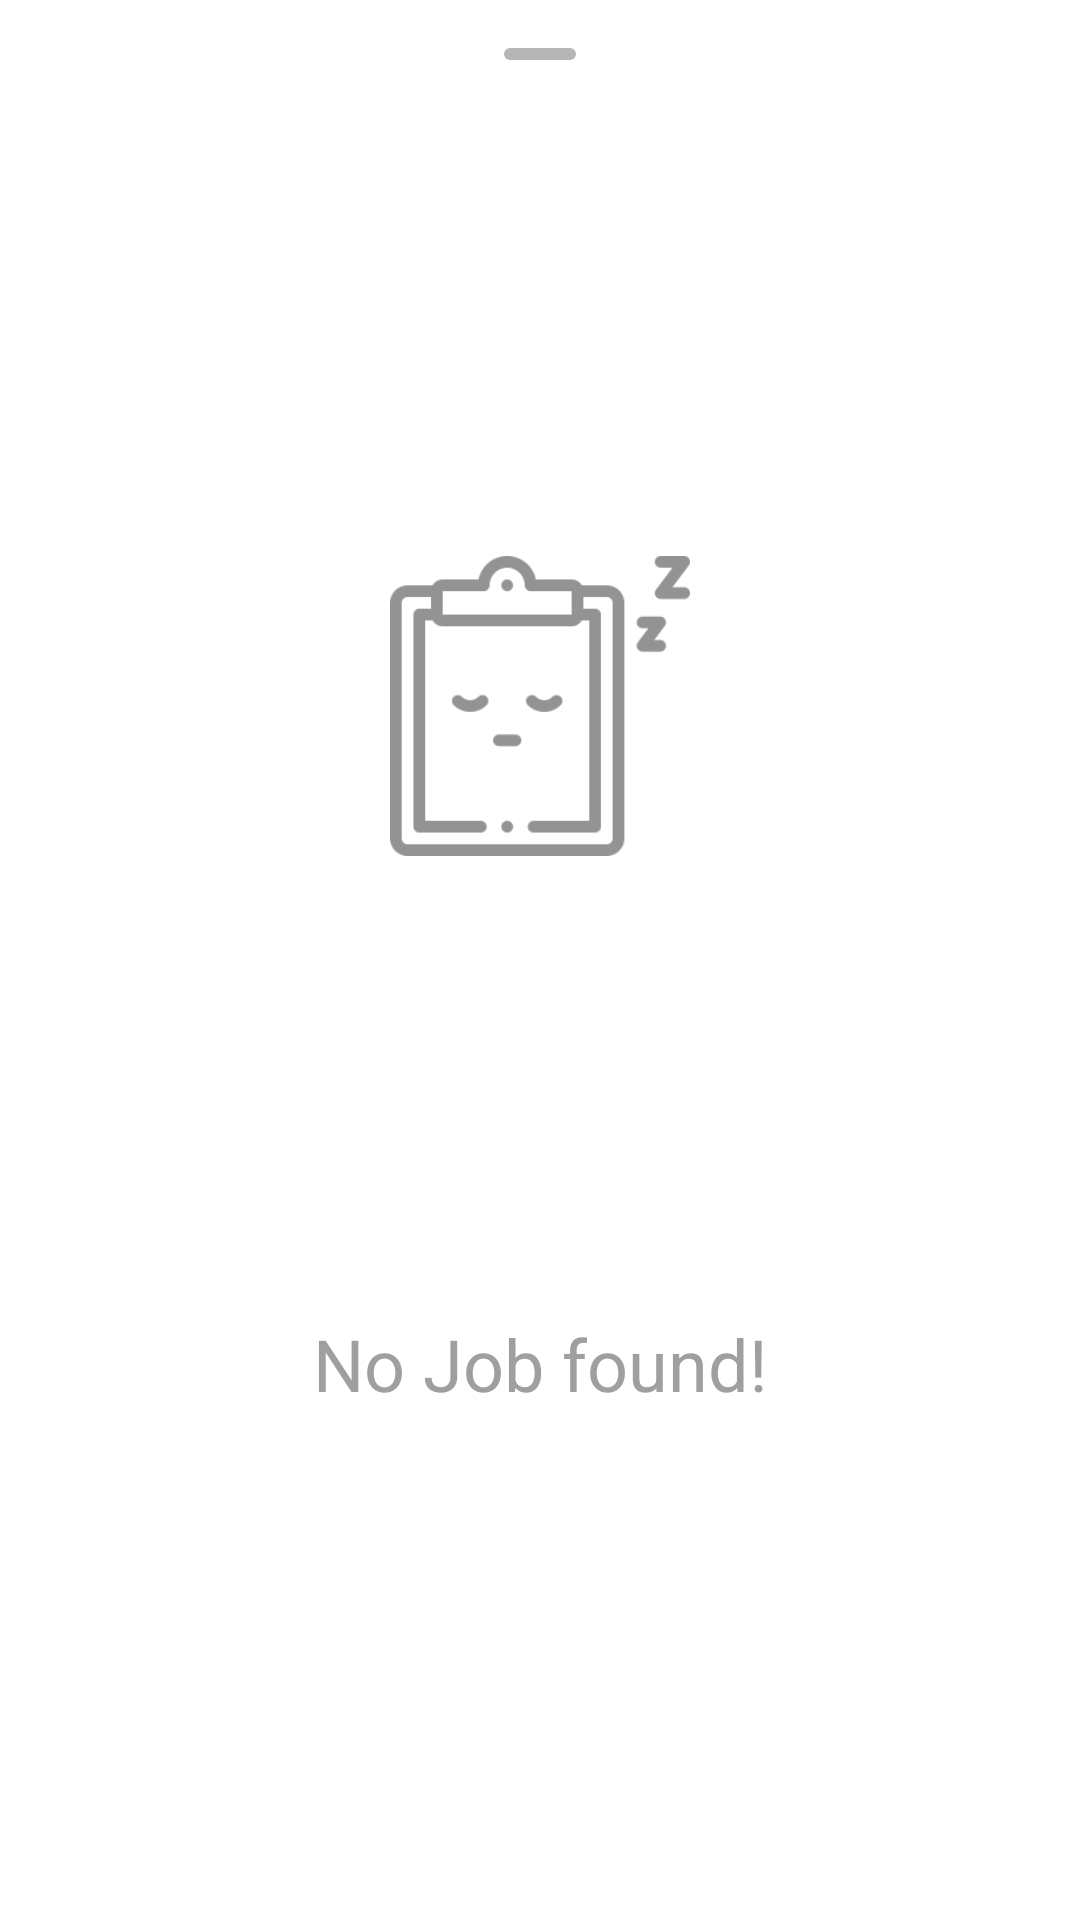

Screen size 1080px×1920px. Icon name, then its center in pixels as [x,y]:
no job found: [540,706]
